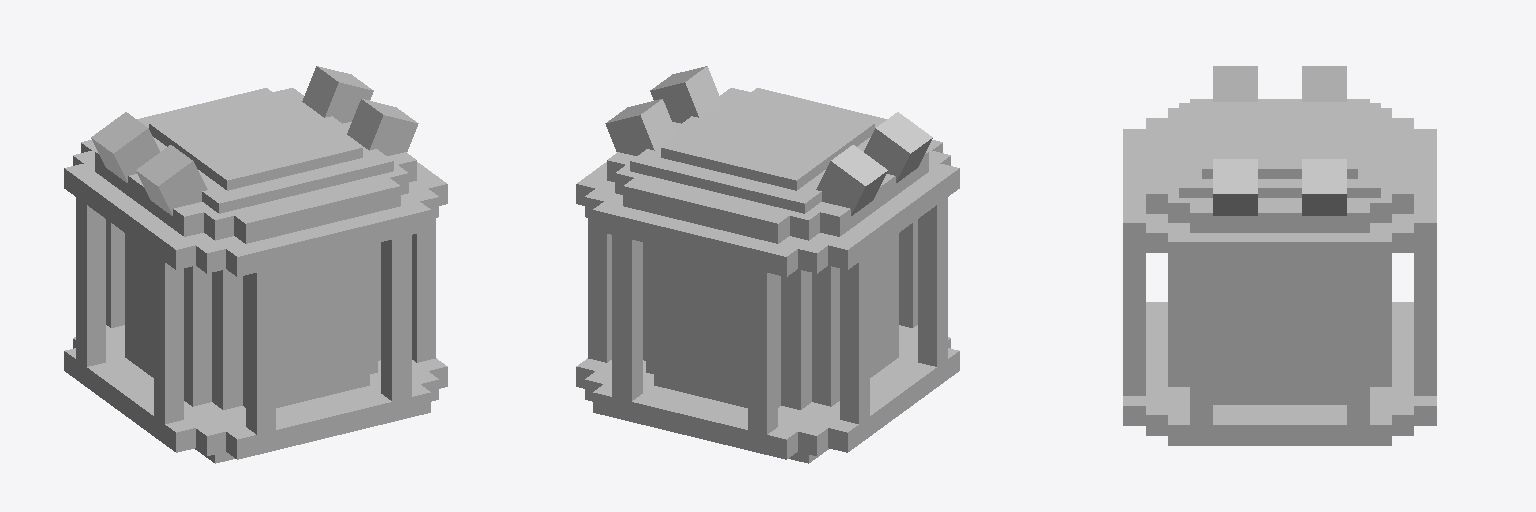
File: reactorCellTop.obj
The picture shows the model from 3 angles: view 1: azimuth 30°, elevation 25°; view 2: azimuth 150°, elevation 25°; view 3: azimuth 270°, elevation 25°; orthographic projection.
Visible parts, largest first — view 1: MiddlePBack, HatCover, MiddlePRight, HatDepth, TopBaseDepth, BaseDepth, TopBaseWidth, BaseWidth, OPBackLeft, OPBackRight, HatTop, OPRightBack (+13 smaller); view 2: MiddlePFront, HatCover, MiddlePRight, HatDepth, TopBaseDepth, BaseDepth, TopBaseWidth, BaseWidth, OPFrontLeft, OPFrontRight, HatTop, OPLeftFront2 (+13 smaller); view 3: MiddlePLeft, HatCover, BaseWidth, TopBaseWidth, BaseDepth, HatTop, TopBaseDepth, HatDepth, HatWidth, OPLeftFront1, OPLeftBack, OPFrontLeft (+10 smaller).
Part boxes in pixels (x1,y1,x2,y2): MiddlePBack: (243, 245, 369, 407); HatCover: (149, 90, 362, 190); MiddlePRight: (125, 233, 211, 406); HatDepth: (137, 88, 400, 243); TopBaseDepth: (81, 140, 430, 276); BaseDepth: (106, 325, 430, 459); TopBaseWidth: (64, 162, 447, 269); BaseWidth: (64, 348, 447, 452); OPBackLeft: (381, 235, 411, 401); OPBackRight: (246, 268, 275, 434); HatTop: (144, 88, 393, 213); OPRightBack: (154, 254, 183, 423); MiddlePFront: (654, 245, 780, 407); HatCover: (661, 90, 874, 190); MiddlePRight: (812, 233, 898, 406); HatDepth: (623, 88, 886, 243); TopBaseDepth: (593, 140, 942, 276); BaseDepth: (593, 325, 917, 459); TopBaseWidth: (576, 161, 959, 269); BaseWidth: (576, 348, 959, 452); OPFrontLeft: (612, 235, 642, 401); OPFrontRight: (748, 268, 777, 434); HatTop: (630, 88, 879, 213); OPLeftFront2: (840, 254, 869, 423); MiddlePLeft: (1213, 263, 1346, 404); HatCover: (1202, 102, 1357, 178); BaseWidth: (1168, 387, 1391, 444); TopBaseWidth: (1168, 223, 1391, 262); BaseDepth: (1123, 311, 1436, 425); HatTop: (1179, 103, 1380, 197); TopBaseDepth: (1123, 129, 1436, 243); HatDepth: (1146, 118, 1413, 213); HatWidth: (1190, 99, 1369, 232); OPLeftFront1: (1347, 263, 1369, 424); OPLeftBack: (1190, 263, 1212, 424); OPFrontLeft: (1414, 244, 1436, 395).
Size of the model in its own units: 0.875 by 0.8824 by 0.875.